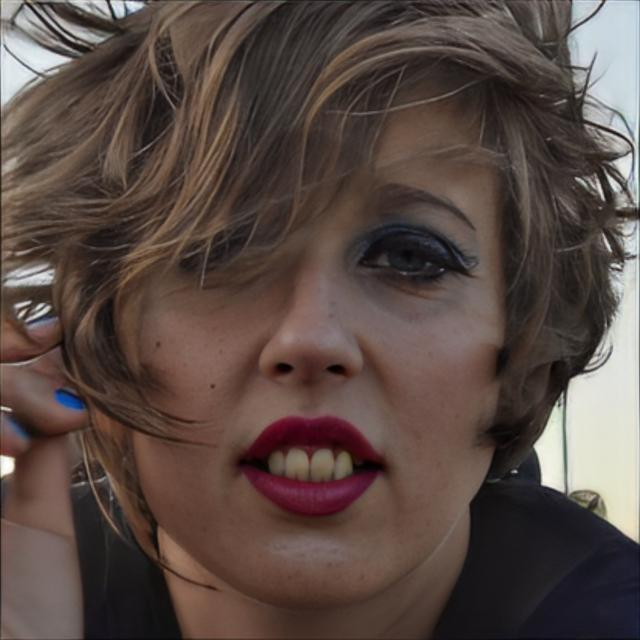disgust: (120, 66, 502, 608)
